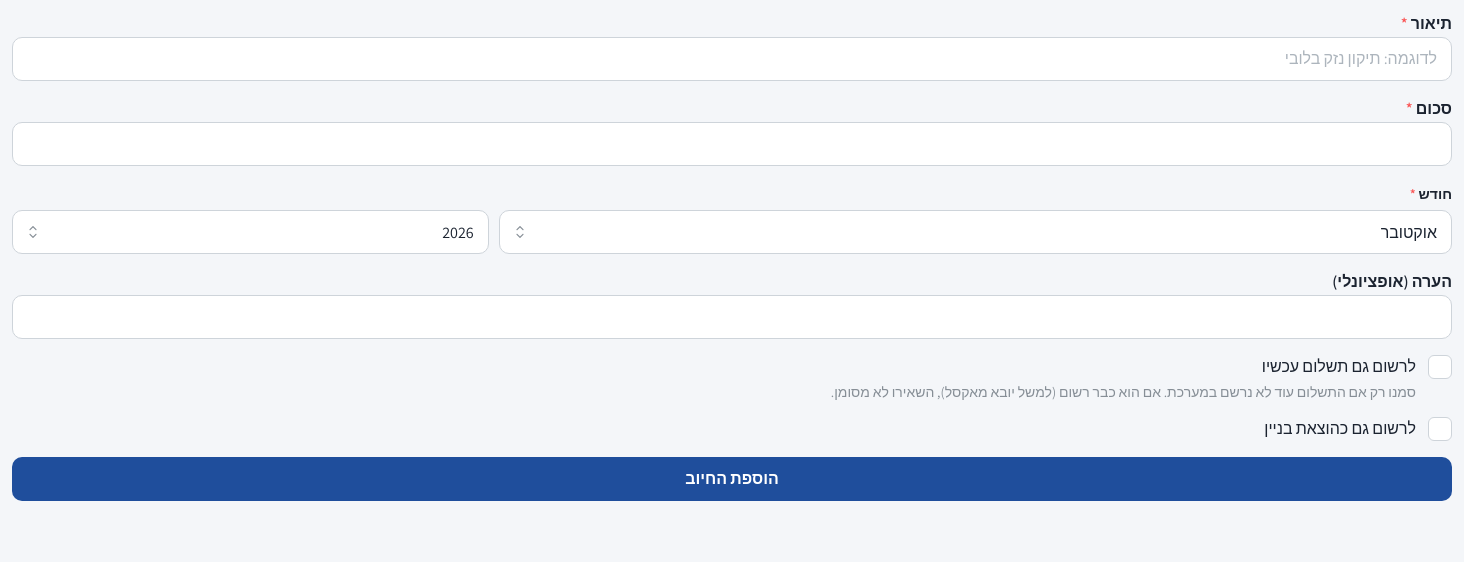
Test: SpecialChargeForm › needs a description and a positive amount
Click the button "הוספת החיוב": point(732, 479) [12,457,1452,501]
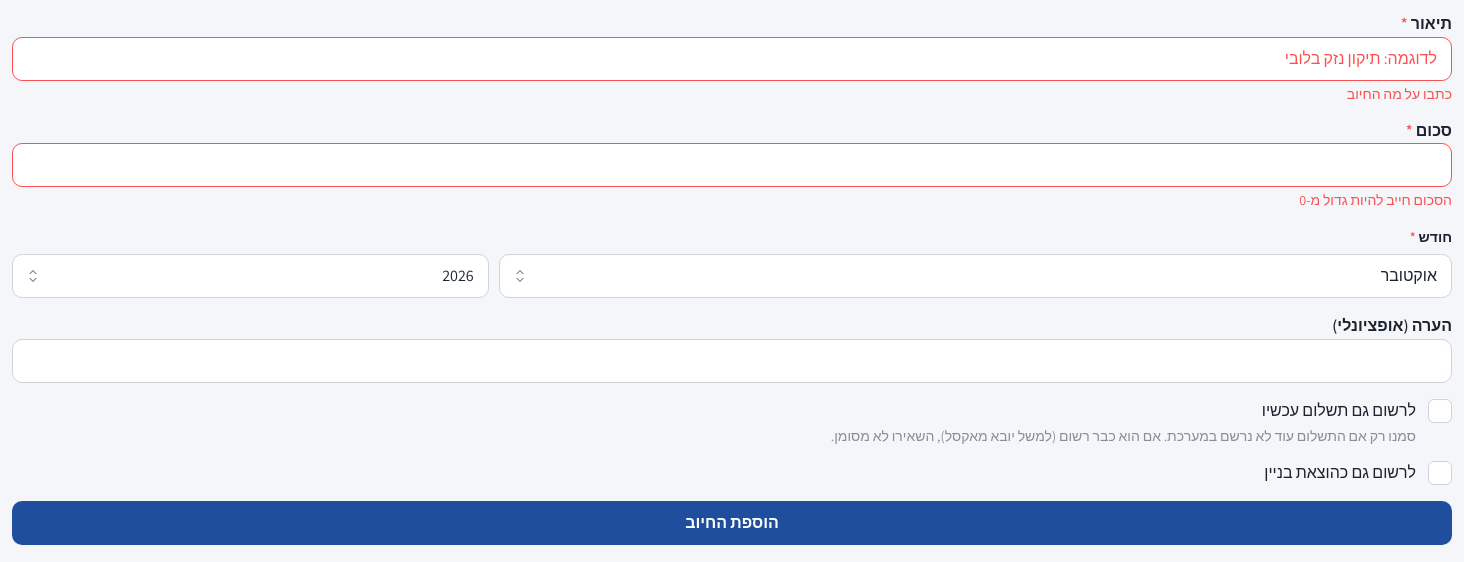
Result: the text "כתבו על מה החיוב" is shown at [1347,85,1452,103]
Result: the text "הסכום חייב להיות גדול מ-0" is shown at [1299,191,1452,209]
